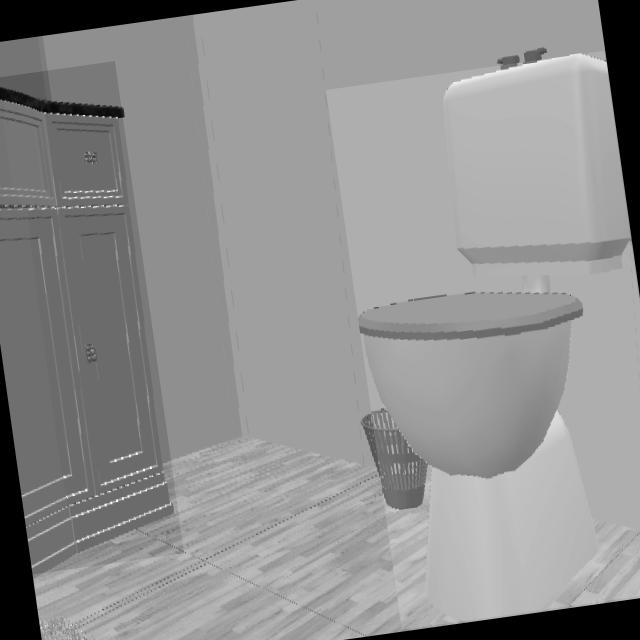cabinet: (0, 89, 172, 574)
toilet: (359, 54, 630, 620)
